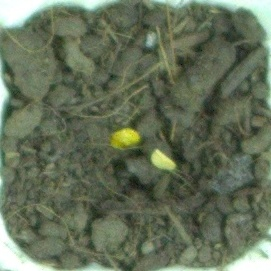pepper seed: (58, 61, 239, 235), (39, 51, 181, 203)
